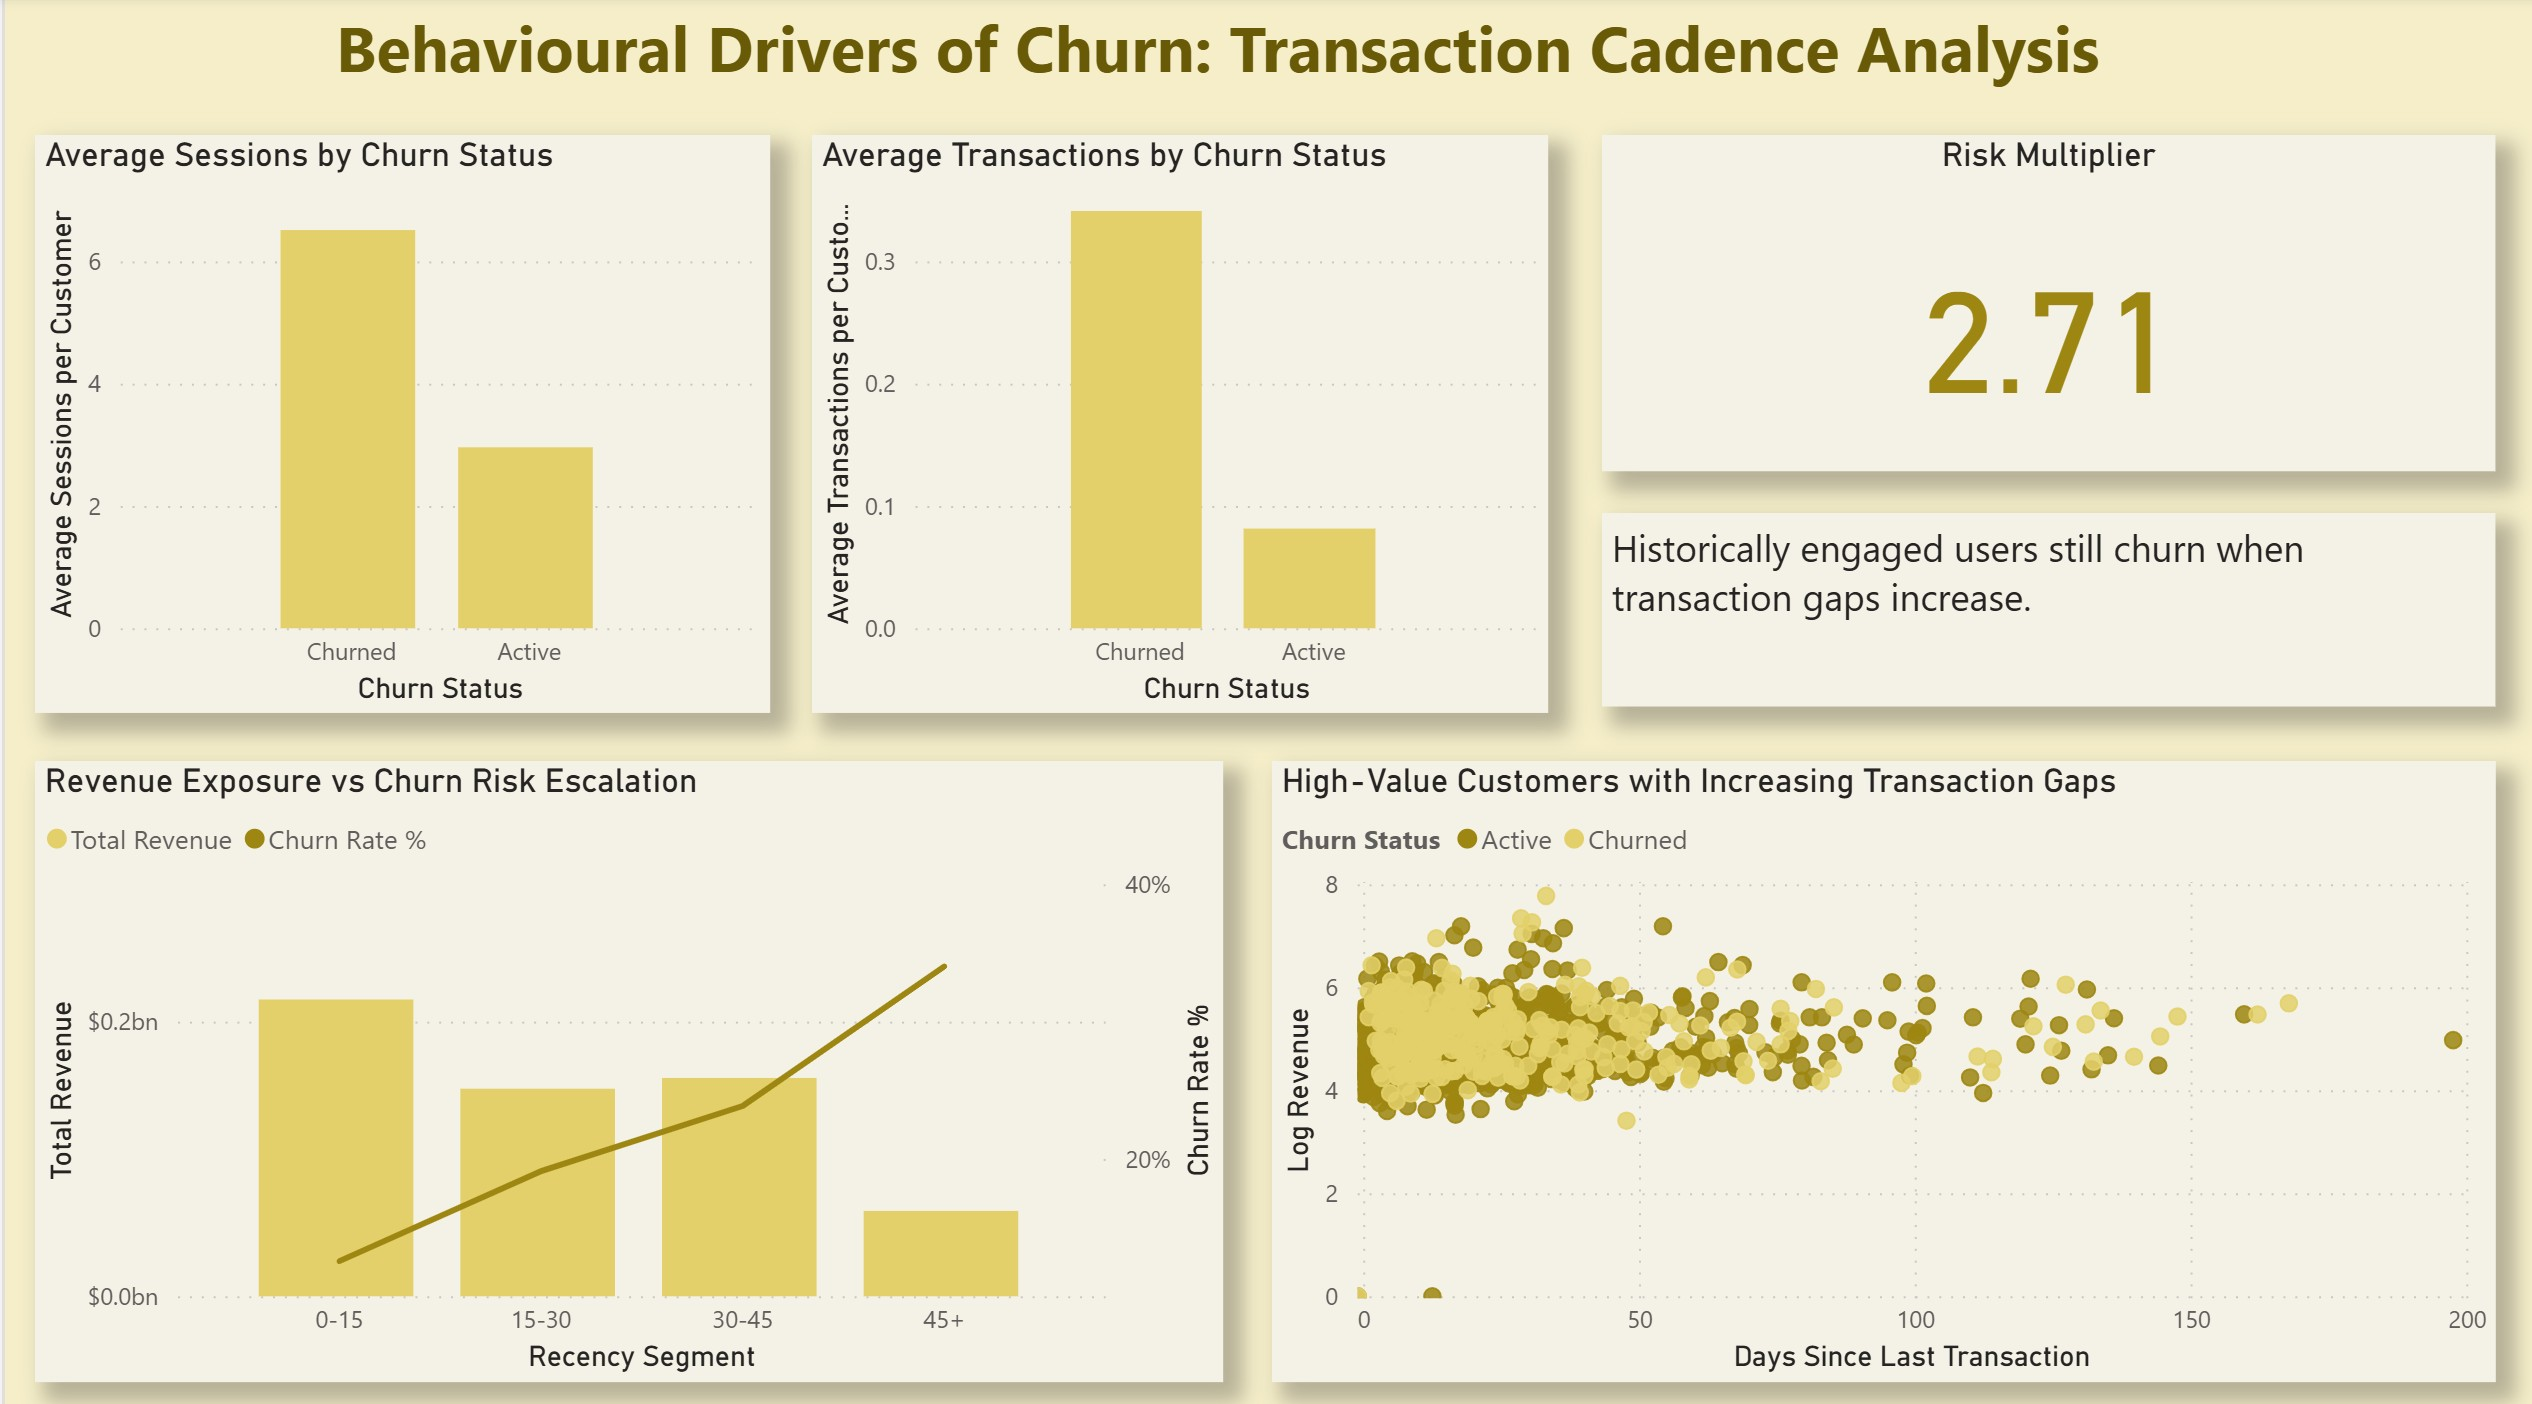

Layout of this report page (visuals, bound fields, positions):
{"tool":"powerbi","page":{"name":"Transaction Cadence as Early Warning Indicator","canvas":[1280,720],"ordinal":1},"visuals":[{"type":"clusteredColumnChart","title":"Average Sessions by Churn Status","fields":{"Category":["churn_bi_table.Churn Status"],"Y":["Avg(churn_bi_table.ses_n)"]},"box":[15.2,71.3,371.6,292.7],"z":0},{"type":"clusteredColumnChart","title":"Average Transactions by Churn Status","fields":{"Category":["churn_bi_table.Churn Status"],"Y":["Avg(churn_bi_table.tran_n)"]},"box":[408,71.3,371.6,292.7],"z":1000},{"type":"scatterChart","title":"High-Value Customers with Increasing Transaction Gaps","fields":{"X":["Sum(churn_bi_table.time_to_tran)"],"Series":["churn_bi_table.Churn Status"],"Y":["churn_bi_table.Log Revenue"]},"box":[640,388.2,618.8,313.9],"z":2000},{"type":"lineClusteredColumnComboChart","title":"Revenue Exposure vs Churn Risk Escalation","fields":{"Y":["churn_bi_table.Total Revenue"],"Category":["churn_bi_table.gap_bucket"],"Y2":["churn_bi_table.Churn Rate %"]},"box":[15.2,388.2,600.6,313.9],"z":3000},{"type":"card","title":"Risk Multiplier","fields":{"Values":["churn_bi_table.Risk Multiplier"]},"box":[806.7,71.7,451.7,170],"z":4000},{"type":"textbox","box":[806.7,261.7,451.7,98.3],"z":5000},{"type":"textbox","box":[161.7,0,915,71.7],"z":6000}]}

Visuals, with their boxes in screenshot pixels (x1, y1, x2, y2), scaled from the page's 1280x720 canvas onto the 2532x1404 screenshot:
"Average Sessions by Churn Status" clusteredColumnChart: [30, 139, 765, 710]
"Average Transactions by Churn Status" clusteredColumnChart: [807, 139, 1542, 710]
"High-Value Customers with Increasing Transaction Gaps" scatterChart: [1266, 757, 2490, 1369]
"Revenue Exposure vs Churn Risk Escalation" lineClusteredColumnComboChart: [30, 757, 1218, 1369]
"Risk Multiplier" card: [1596, 140, 2489, 471]
textbox: [1596, 510, 2489, 702]
textbox: [320, 0, 2130, 140]
